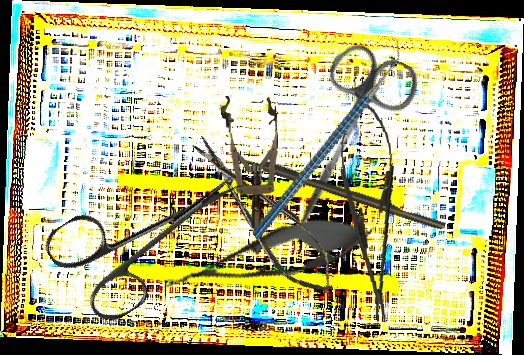Chopper: (205, 37, 449, 241)
Hook Surgical: (228, 148, 447, 233)
Iris Scissors: (39, 131, 266, 333), (261, 35, 426, 251)
Micro Scissor: (182, 120, 347, 309), (156, 203, 379, 310)
Needle Holder: (331, 89, 409, 325)
Speculum: (220, 93, 283, 230)
